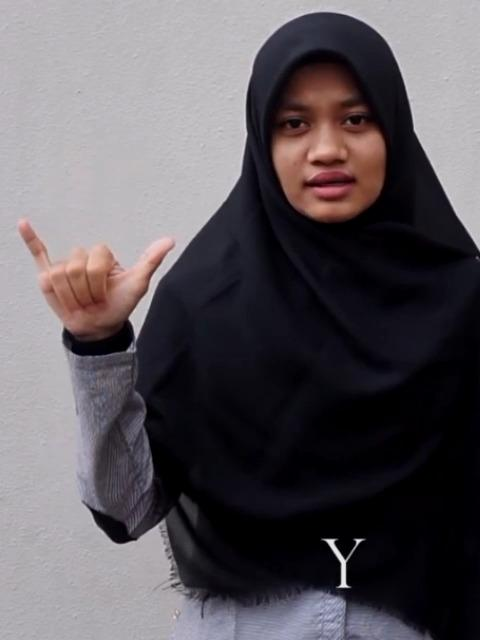Y: (19, 213, 183, 337)
